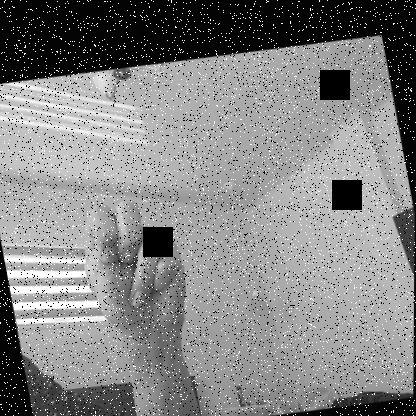N: (73, 186, 198, 349)
